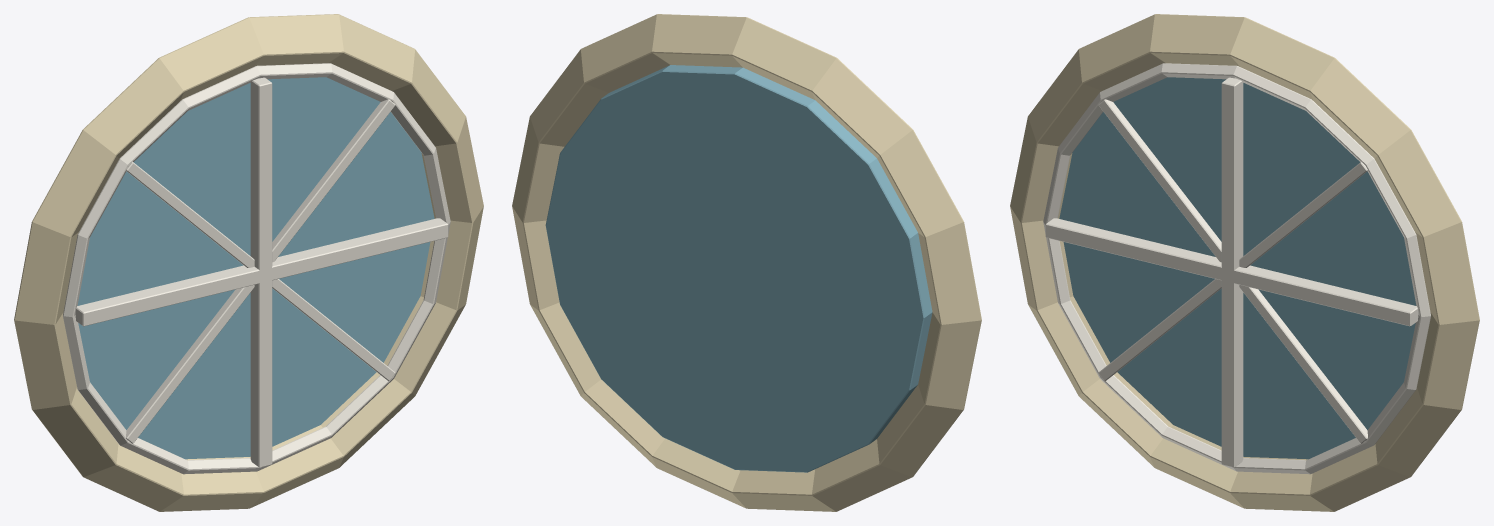
The model's file is b12_round_attic_window.glb.
The picture shows the model from 3 angles, left to right: view 1: azimuth 30°, elevation 25°; view 2: azimuth 150°, elevation 25°; view 3: azimuth 330°, elevation 25°; orthographic projection.
Parts seen in each view (by area): view 1: b12_round_attic_window; view 2: b12_round_attic_window; view 3: b12_round_attic_window.
Part boxes in pixels (left/top/right/bottom): b12_round_attic_window: left=14, top=14, right=483, bottom=511; b12_round_attic_window: left=512, top=14, right=981, bottom=511; b12_round_attic_window: left=1010, top=14, right=1479, bottom=511.
Bounding box in the file's own units: 1.21 × 1.21 × 0.1425.
